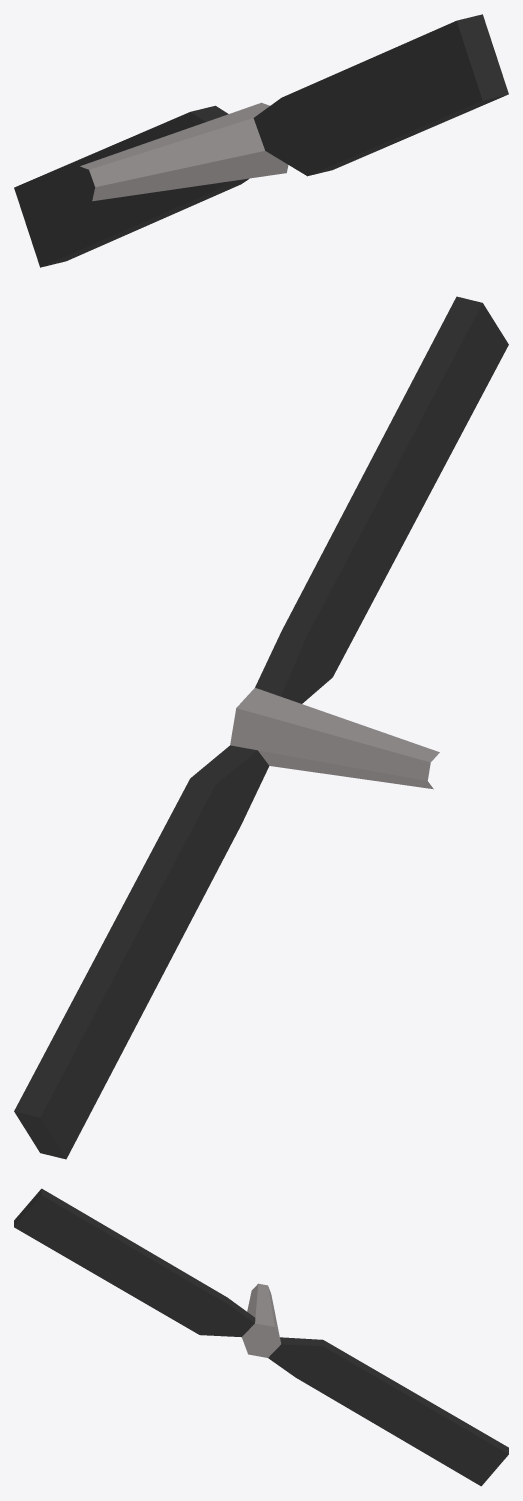
File: helicopter-propeller-small.glb
3 views of the same model, one above another, from view 1: azimuth 30°, elevation 25°; view 2: azimuth 150°, elevation 25°; view 3: azimuth 270°, elevation 25° (orthographic). The views are drawn at different scales.
Parts seen in each view (by area): view 1: helicopter-propeller-small; view 2: helicopter-propeller-small; view 3: helicopter-propeller-small.
Boxes of the visible parts, left/top/right/bottom form: helicopter-propeller-small: left=14, top=14, right=508, bottom=267; helicopter-propeller-small: left=14, top=296, right=508, bottom=1159; helicopter-propeller-small: left=14, top=1188, right=508, bottom=1486.
Size of the model in its own units: 0.3359 by 0.9385 by 1.44.
1 material, 1 textured.
